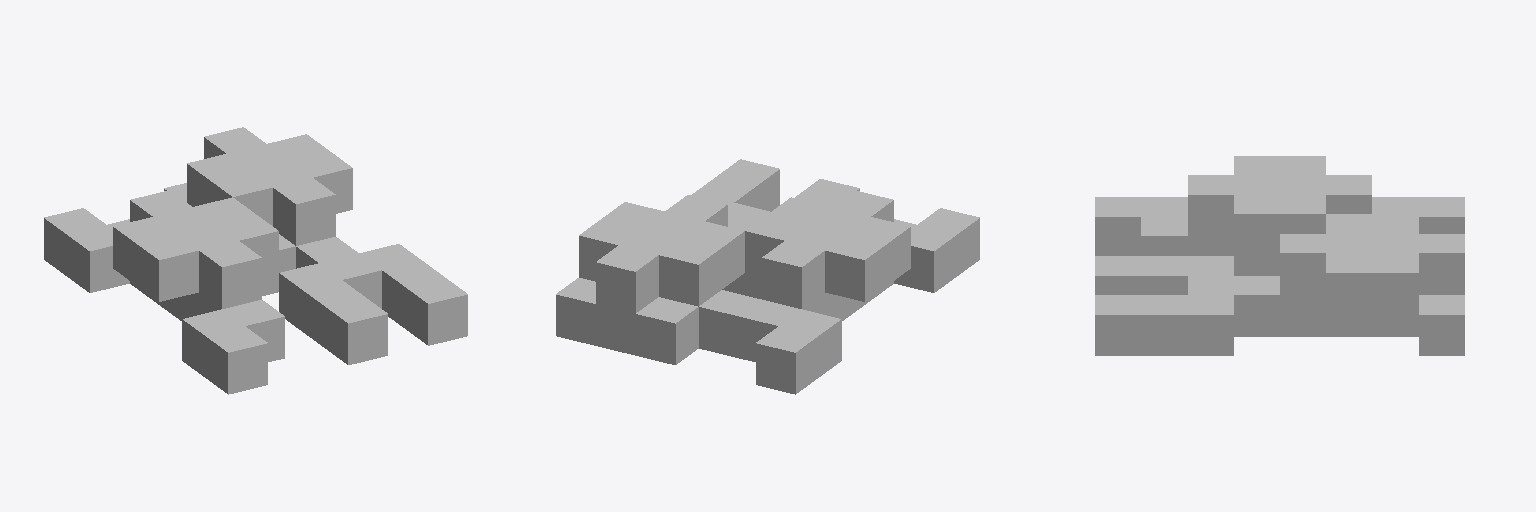
File: vines2-0.obj
The picture shows the model from 3 angles: view 1: azimuth 30°, elevation 25°; view 2: azimuth 150°, elevation 25°; view 3: azimuth 270°, elevation 25°; orthographic projection.
Parts seen in each view (by area): view 1: object 1; view 2: object 1; view 3: object 1.
Boxes of the visible parts, x1=… form: object 1: x1=44, y1=127, x2=467, y2=394; object 1: x1=556, y1=159, x2=979, y2=394; object 1: x1=1095, y1=156, x2=1464, y2=355.
Size of the model in its own units: 0.6 by 0.2 by 0.8.